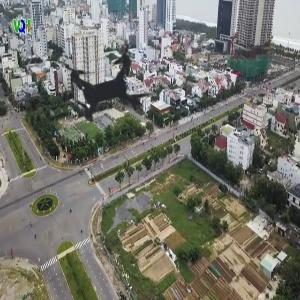drone: (26, 6, 184, 164)
